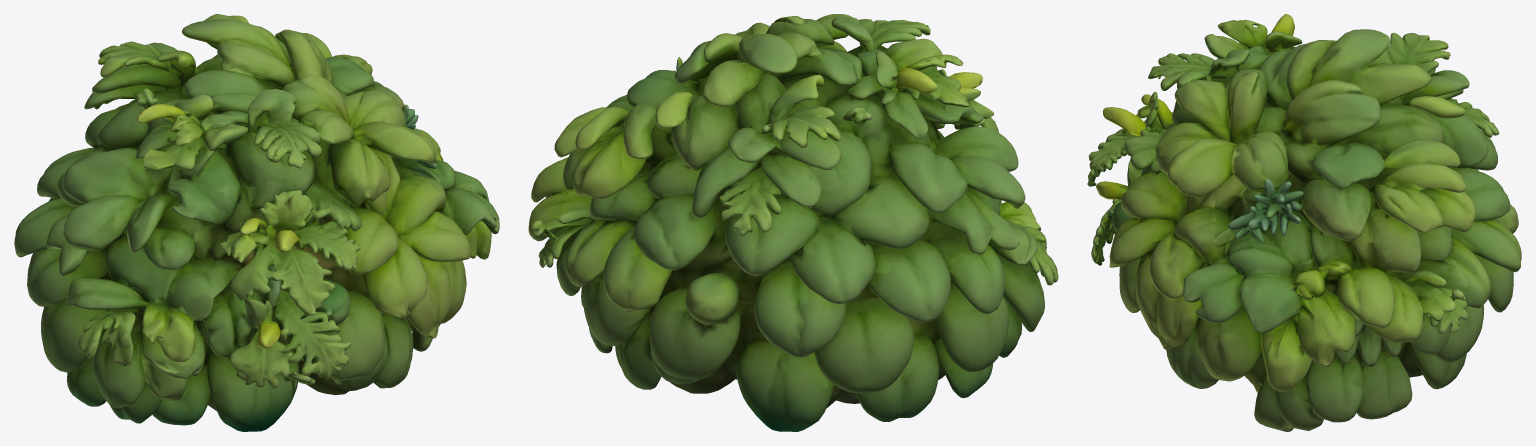
Rendered from vine_bush.glb.
3 renders of one model, left to right at view 1: azimuth 30°, elevation 25°; view 2: azimuth 150°, elevation 25°; view 3: azimuth 270°, elevation 25°, orthographic. The views are drawn at different scales.
Parts seen in each view (by area): view 1: tripo_node_e73c8d39-264c-40a4-8c8f-d20ed681d4aa; view 2: tripo_node_e73c8d39-264c-40a4-8c8f-d20ed681d4aa; view 3: tripo_node_e73c8d39-264c-40a4-8c8f-d20ed681d4aa.
Boxes of the visible parts, box(x1,y1,x2,y2) form: tripo_node_e73c8d39-264c-40a4-8c8f-d20ed681d4aa: box(14, 14, 499, 431); tripo_node_e73c8d39-264c-40a4-8c8f-d20ed681d4aa: box(528, 14, 1058, 431); tripo_node_e73c8d39-264c-40a4-8c8f-d20ed681d4aa: box(1087, 14, 1521, 431).
Bounding box in the file's own units: 0.9789 × 0.7254 × 0.8763.
1 material, 1 textured.
